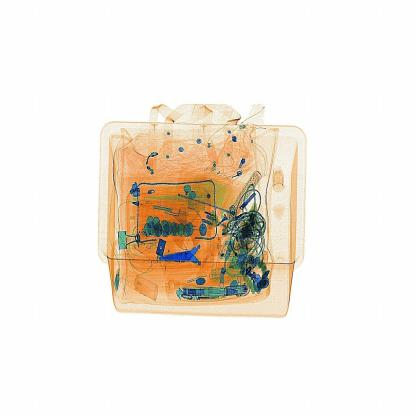gun: (156, 228, 225, 281)
